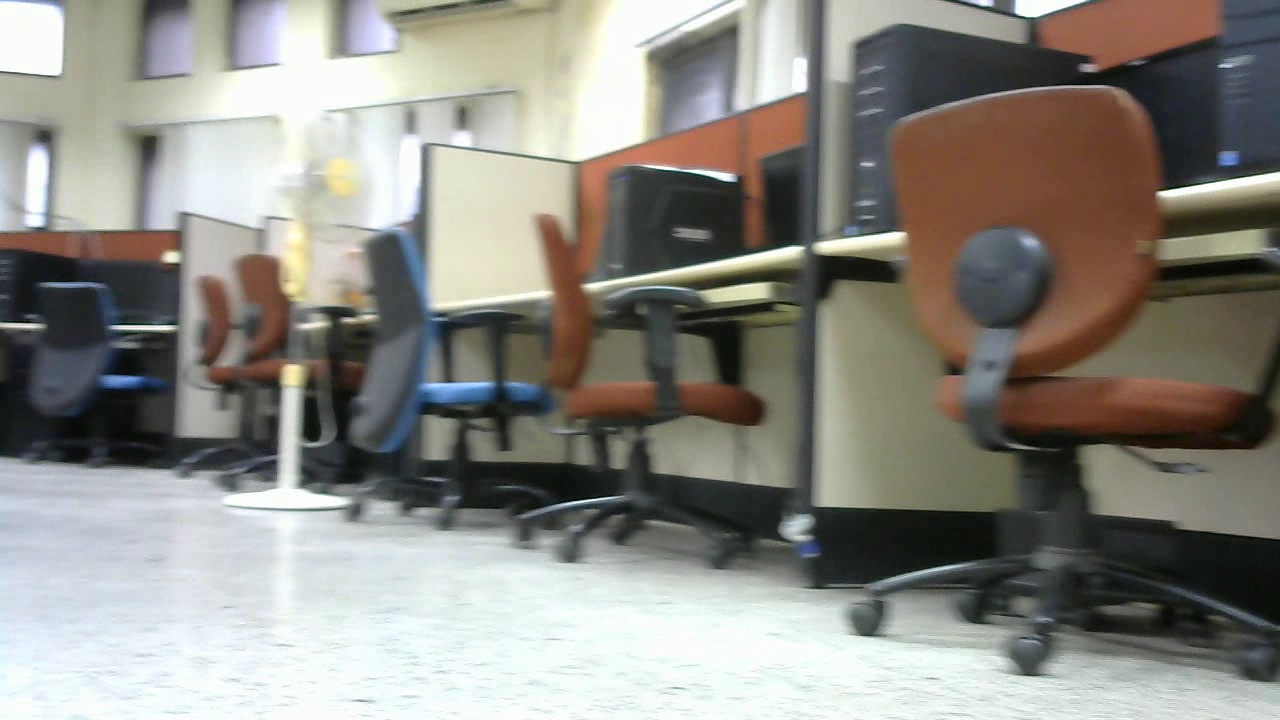chair: (831, 75, 1280, 689), (518, 208, 769, 576), (357, 226, 552, 541), (186, 256, 364, 486), (20, 272, 160, 468)
